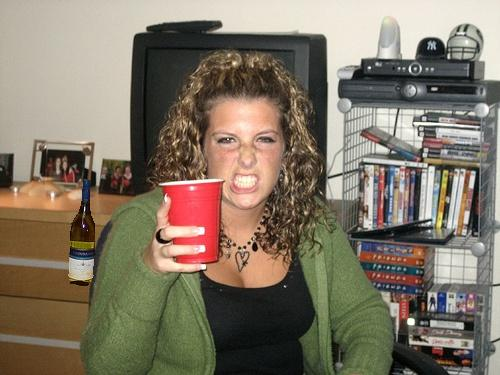tampered: (69, 180, 95, 286)
